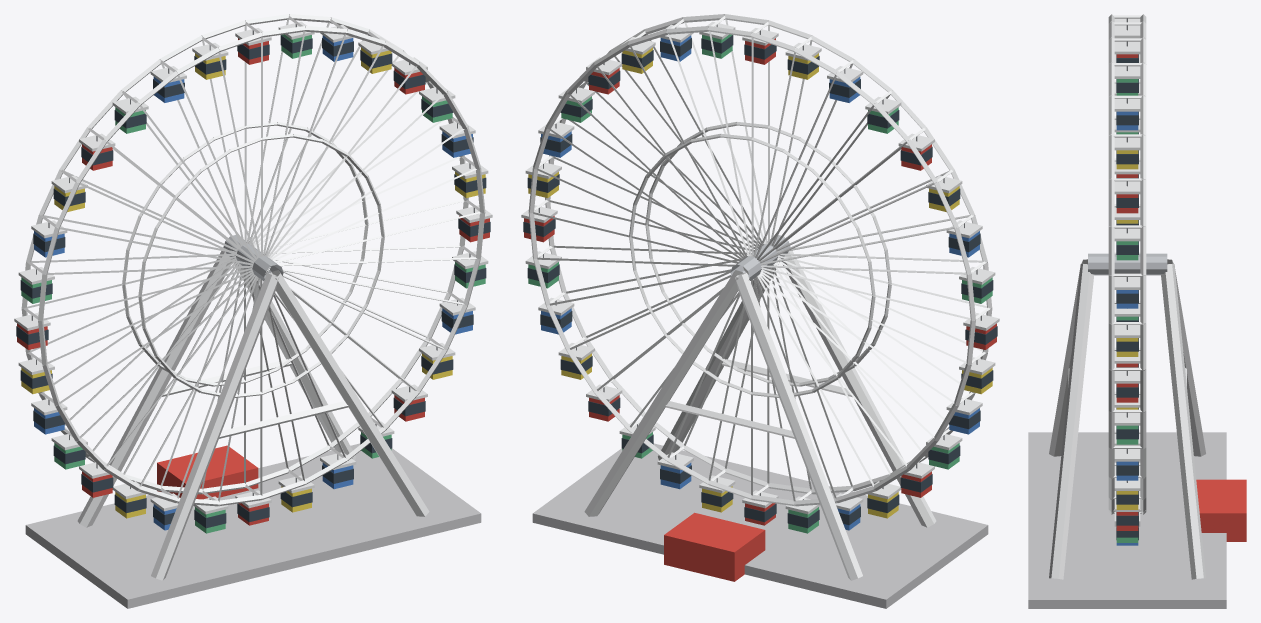
Rendered from suzuka_wheel.glb.
The picture shows the model from 3 angles, left to right: view 1: azimuth 30°, elevation 25°; view 2: azimuth 150°, elevation 25°; view 3: azimuth 270°, elevation 25°; orthographic projection. The views are drawn at different scales.
Visible parts, largest first — view 1: wheel, legs, gondolas; view 2: wheel, legs, gondolas; view 3: legs, gondolas, wheel.
Part boxes in pixels (x1=…): wheel: x1=21, y1=14, x2=485, y2=506; legs: x1=25, y1=251, x2=481, y2=608; gondolas: x1=14, y1=21, x2=492, y2=533; wheel: x1=528, y1=14, x2=992, y2=506; legs: x1=532, y1=250, x2=988, y2=608; gondolas: x1=521, y1=21, x2=999, y2=533; legs: x1=1028, y1=259, x2=1246, y2=608; gondolas: x1=1114, y1=18, x2=1140, y2=545; wheel: x1=1088, y1=14, x2=1167, y2=514.
Bounding box in the file's own units: 52.6 × 54.3 × 22.
